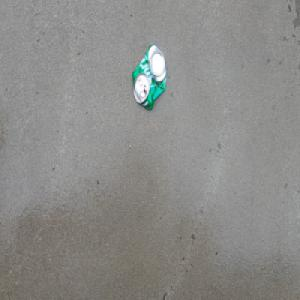SodaCan: (131, 41, 167, 110)
